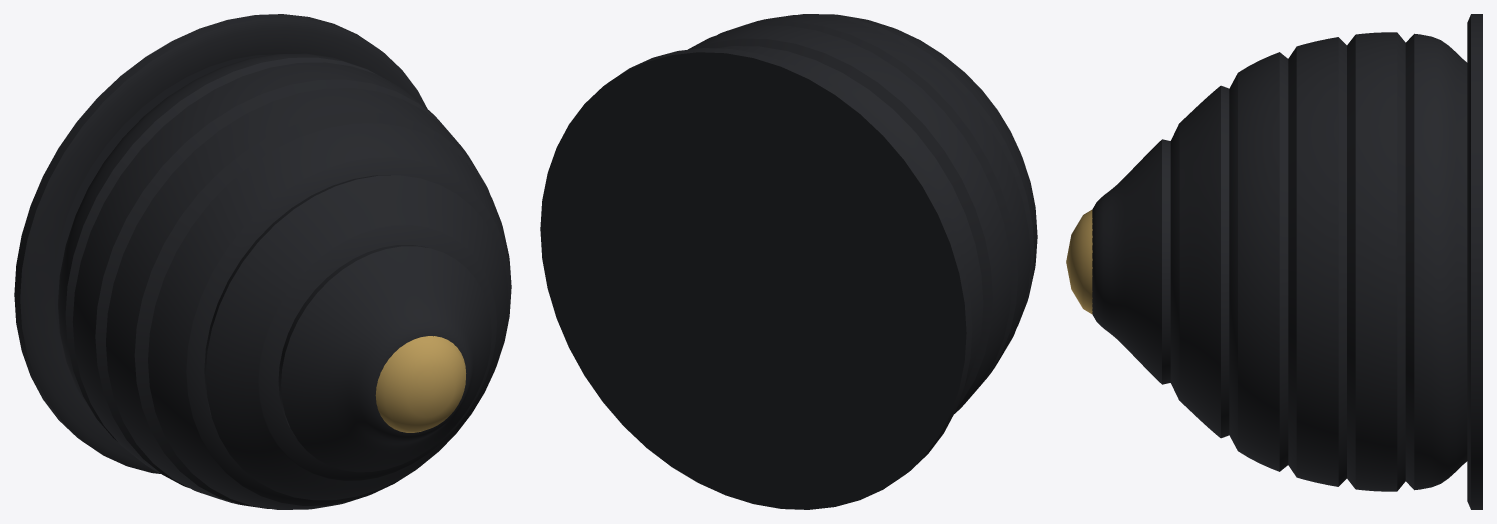
3 renders of one model, left to right at view 1: azimuth 30°, elevation 25°; view 2: azimuth 150°, elevation 25°; view 3: azimuth 270°, elevation 25°, orthographic.
Parts seen in each view (by area): view 1: iron_knob, iron_knob_rose, iron_knob_cap; view 2: iron_knob_rose, iron_knob; view 3: iron_knob, iron_knob_rose, iron_knob_cap.
Part boxes in pixels (x1,y1,x2,y2): iron_knob: (58, 53, 511, 509); iron_knob_rose: (14, 14, 427, 473); iron_knob_cap: (375, 336, 466, 432); iron_knob_rose: (540, 48, 972, 509); iron_knob: (688, 14, 1037, 413); iron_knob: (1092, 32, 1467, 491); iron_knob_rose: (1467, 14, 1482, 509); iron_knob_cap: (1066, 210, 1092, 314).
Bounding box in the file's own units: 0.076 × 0.076 × 0.0638.
